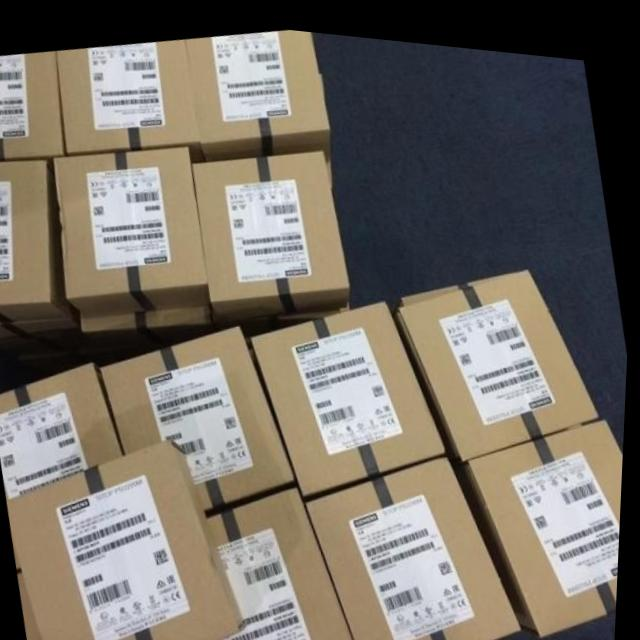box: (13, 438, 251, 640), (312, 448, 525, 640), (397, 257, 603, 455), (253, 294, 452, 491), (101, 322, 304, 509), (467, 405, 626, 630), (190, 144, 356, 322), (57, 139, 215, 312), (214, 480, 363, 640), (185, 24, 334, 182), (58, 39, 208, 159), (0, 360, 128, 499), (0, 156, 85, 347), (0, 51, 67, 159), (84, 300, 218, 349), (23, 568, 49, 640)
